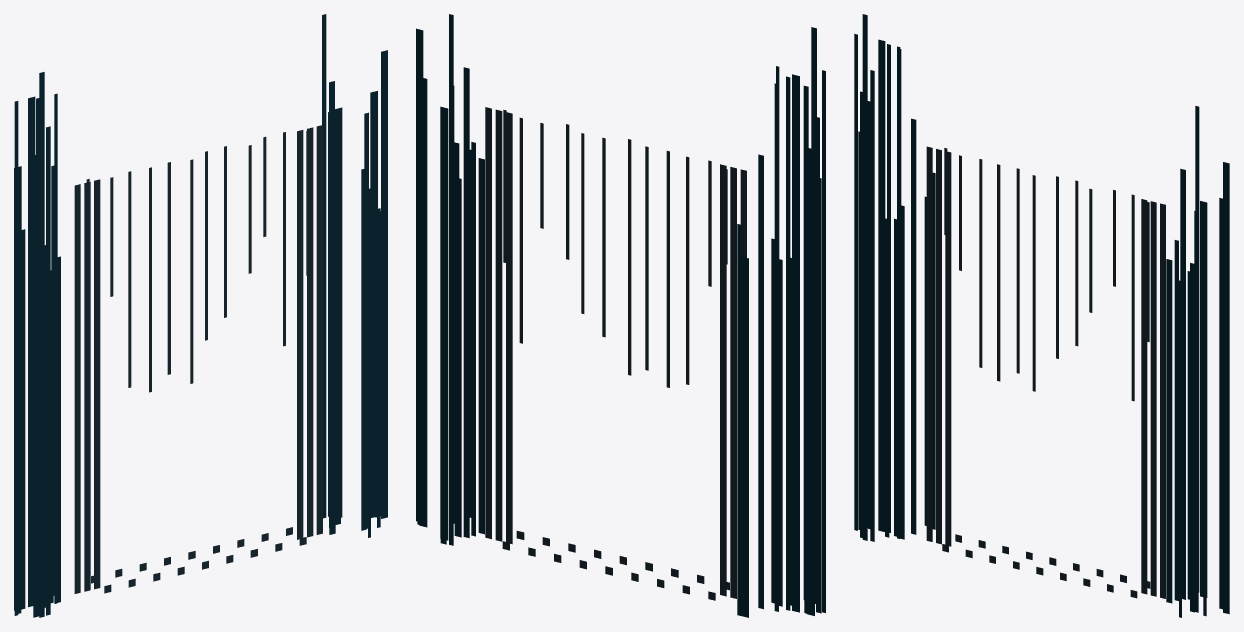
Rendered from doorway_b.glb.
3 views of the same model, side by side, from view 1: azimuth 30°, elevation 25°; view 2: azimuth 150°, elevation 25°; view 3: azimuth 330°, elevation 25° (orthographic). The views are drawn at different scales.
Parts seen in each view (by area): view 1: door_curtain, door_jambs, door_threshold; view 2: door_curtain, door_jambs, door_threshold; view 3: door_curtain, door_jambs, door_threshold.
Part boxes in pixels (x1=…): door_curtain: x1=14, y1=14, x2=387, y2=617; door_jambs: x1=74, y1=125, x2=322, y2=593; door_threshold: x1=91, y1=527, x2=306, y2=593; door_curtain: x1=416, y1=14, x2=825, y2=617; door_jambs: x1=485, y1=107, x2=746, y2=598; door_threshold: x1=502, y1=531, x2=729, y2=600; door_curtain: x1=854, y1=14, x2=1229, y2=617; door_jambs: x1=926, y1=146, x2=1165, y2=598; door_threshold: x1=942, y1=534, x2=1150, y2=598.
Bounding box in the file's own units: 1.95 × 2.67 × 0.2822.
